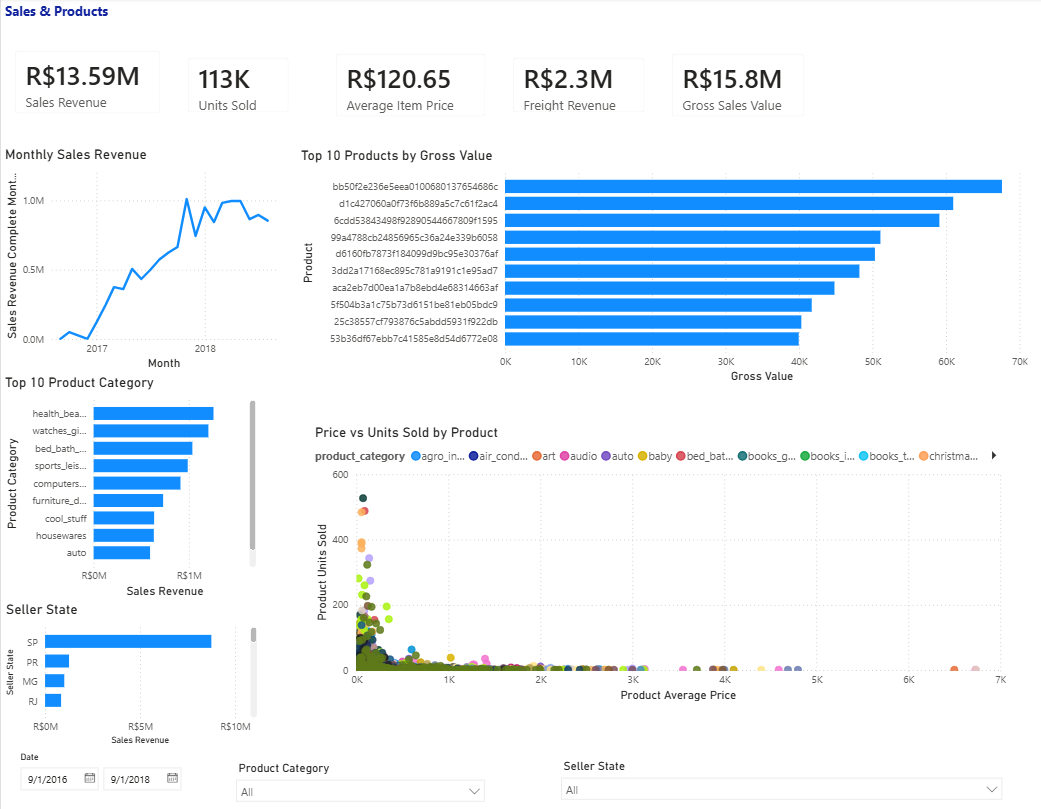

The page's visual inventory and layout, read from the dashboard file:
{"tool":"powerbi","page":{"name":"Sales & Products","canvas":[1280,1000],"ordinal":1},"visuals":[{"type":"lineChart","title":"Monthly Sales Revenue","fields":{"Category":["mart_sales_performance.month_start"],"Y":["mart_sales_performance.Sales Revenue Complete Months"]},"box":[0,182,346.2,280.5],"z":0},{"type":"clusteredBarChart","title":"Top 10 Product Category","fields":{"Y":["mart_sales_performance.Sales Revenue"],"Category":["DimProductCategory.Product Category"]},"box":[0,462.2,318.8,279.7],"z":1000},{"type":"clusteredBarChart","title":" Seller State","fields":{"Category":["mart_sales_performance.seller_state"],"Y":["mart_sales_performance.Sales Revenue"]},"box":[1.2,741.9,318.8,181.3],"z":2000},{"type":"clusteredBarChart","title":"Top 10 Products by Gross Value","fields":{"Y":["Sum(mart_product_performance.gross_value)"],"Category":["mart_product_performance.product_id"]},"box":[363.9,183.7,904.3,295.1],"z":3000},{"type":"slicer","fields":{"Values":["DimDate.Date"]},"box":[10.7,923.3,260.7,77],"z":5000},{"type":"slicer","fields":{"Values":["DimProductCategory.Product Category"]},"box":[279.7,933.9,325.9,64],"z":6000},{"type":"slicer","fields":{"Values":["DimSellerState.Seller State"]},"box":[679.1,931.6,563,66.4],"z":7000},{"type":"cardVisual","fields":{"Data":["mart_sales_performance.Sales Revenue"]},"box":[0,48,213.5,111.2],"z":8000},{"type":"cardVisual","fields":{"Data":["mart_sales_performance.Units Sold"]},"box":[213.3,56.9,158.8,101.9],"z":9000},{"type":"cardVisual","fields":{"Data":["mart_sales_performance.Average Item Price"]},"box":[394.7,52.1,218.1,111.4],"z":10000},{"type":"cardVisual","fields":{"Data":["mart_sales_performance.Freight Revenue"]},"box":[612.7,56.9,196.7,101.9],"z":11000},{"type":"cardVisual","fields":{"Data":["mart_sales_performance.Gross Sales Value"]},"box":[808.3,52.1,197.9,111.4],"z":12000},{"type":"textbox","box":[0,0,148.1,43.9],"z":13000},{"type":"scatterChart","title":"Price vs Units Sold by Product","fields":{"Category":["mart_product_performance.product_id"],"X":["mart_product_performance.Product Average Price"],"Y":["mart_product_performance.Product Units Sold"],"Series":["mart_product_performance.product_category"]},"box":[381.6,524.4,860.5,346.2],"z":13001}]}

Visuals, with their boxes in screenshot pixels (x1, y1, x2, y2), scaled from the page's 1280x1000 canvas onto the 1041x809 screenshot:
"Monthly Sales Revenue" lineChart: (left=0, top=147, right=282, bottom=374)
"Top 10 Product Category" clusteredBarChart: (left=0, top=374, right=259, bottom=600)
" Seller State" clusteredBarChart: (left=1, top=600, right=260, bottom=747)
"Top 10 Products by Gross Value" clusteredBarChart: (left=296, top=149, right=1031, bottom=387)
slicer - DimDate.Date: (left=9, top=747, right=221, bottom=808)
slicer - DimProductCategory.Product Category: (left=227, top=756, right=493, bottom=807)
slicer - DimSellerState.Seller State: (left=552, top=754, right=1010, bottom=807)
cardVisual - mart_sales_performance.Sales Revenue: (left=0, top=39, right=174, bottom=129)
cardVisual - mart_sales_performance.Units Sold: (left=173, top=46, right=303, bottom=128)
cardVisual - mart_sales_performance.Average Item Price: (left=321, top=42, right=498, bottom=132)
cardVisual - mart_sales_performance.Freight Revenue: (left=498, top=46, right=658, bottom=128)
cardVisual - mart_sales_performance.Gross Sales Value: (left=657, top=42, right=818, bottom=132)
textbox: (left=0, top=0, right=120, bottom=36)
"Price vs Units Sold by Product" scatterChart: (left=310, top=424, right=1010, bottom=704)
